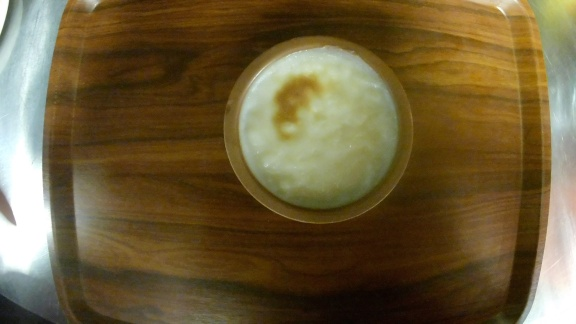sutlac: (222, 34, 415, 223)
